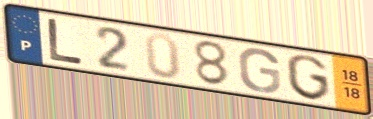0: (142, 31, 183, 81)
2: (95, 26, 133, 74)
8: (191, 39, 230, 88)
G: (284, 53, 333, 103), (236, 47, 283, 94)
L: (45, 16, 87, 66)
